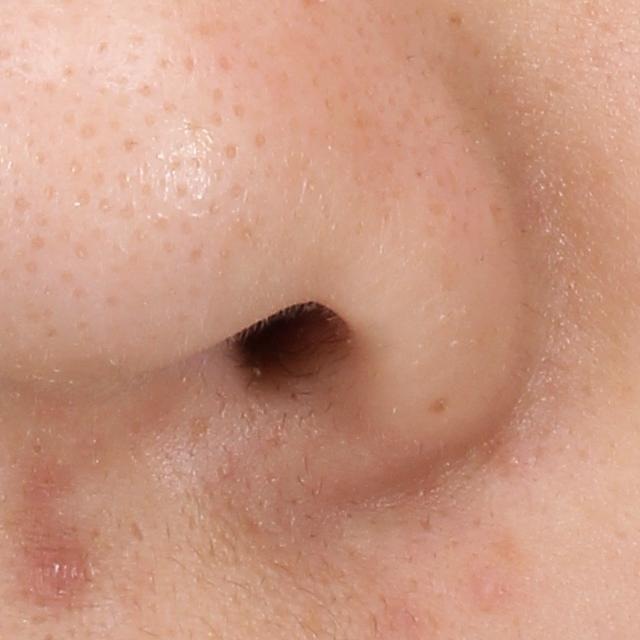atrophic_scar: (129, 514, 146, 545)
papule: (31, 545, 91, 589)
